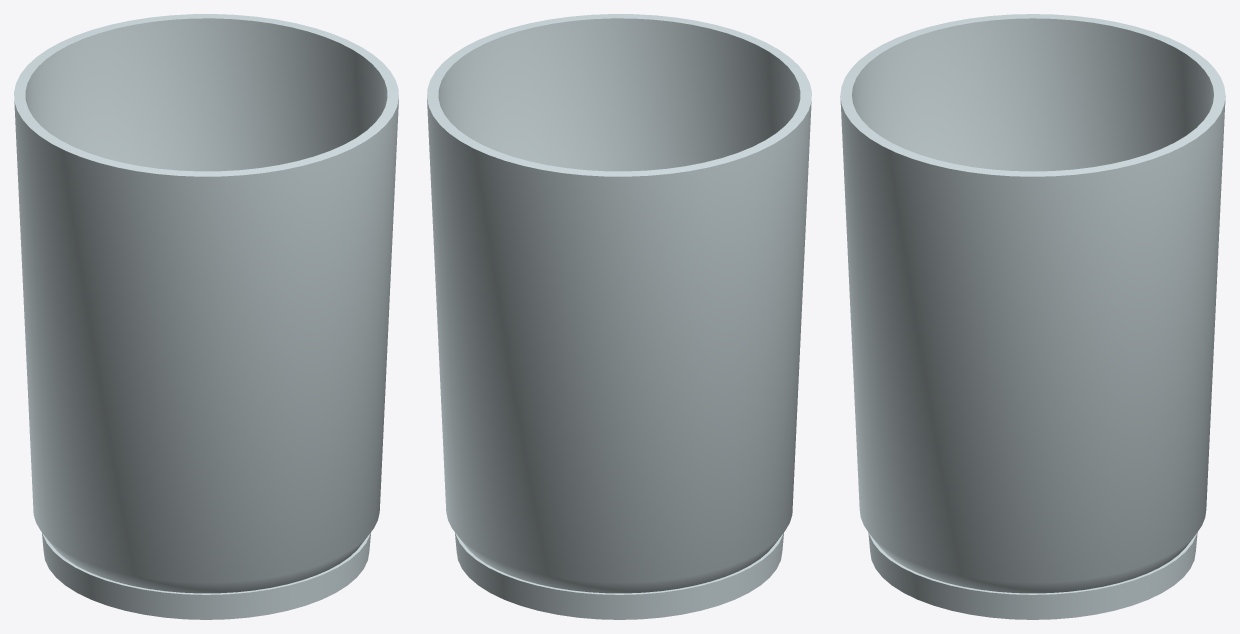
File: tumbler.glb
3 views of the same model, side by side, from view 1: azimuth 30°, elevation 25°; view 2: azimuth 150°, elevation 25°; view 3: azimuth 270°, elevation 25° (orthographic).
Parts seen in each view (by area): view 1: Tumbler 300 ml - Glass (alpha-blended); view 2: Tumbler 300 ml - Glass (alpha-blended); view 3: Tumbler 300 ml - Glass (alpha-blended).
Boxes of the visible parts, x1,y1,x2,y2 form: Tumbler 300 ml - Glass (alpha-blended): (14,14,398,619); Tumbler 300 ml - Glass (alpha-blended): (427,14,811,619); Tumbler 300 ml - Glass (alpha-blended): (840,14,1225,619).
Size of the model in its own units: 0.0804 by 0.1051 by 0.0804.
1 material, 1 textured.
